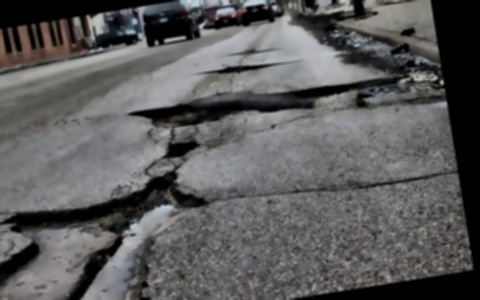pothole: (0, 164, 230, 300), (125, 94, 223, 137), (281, 70, 399, 104), (203, 59, 271, 78), (158, 136, 203, 161)
